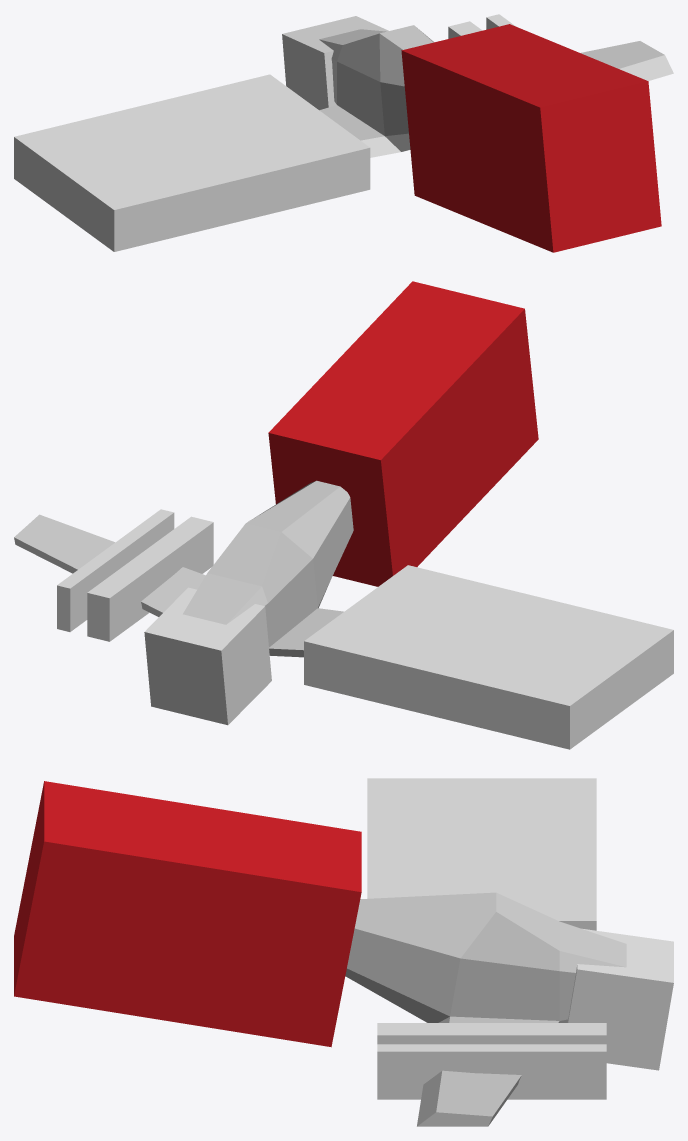
File: plane_trainer.gltf
The picture shows the model from 3 angles, top to bottom: view 1: azimuth 30°, elevation 25°; view 2: azimuth 150°, elevation 25°; view 3: azimuth 270°, elevation 25°; orthographic projection. The views are drawn at different scales.
Visible parts, largest first — view 1: Cube, Cube.004, TrainerPlane, Cube.001, Cube.002; view 2: Cube, Cube.004, TrainerPlane, Cube.001, Cube.002, Cube.003; view 3: Cube, TrainerPlane, Cube.004, Cube.003, Cube.001, Cube.002.
Part boxes in pixels (x1=…): Cube: x1=401, y1=24, x2=661, y2=252; Cube.004: x1=14, y1=74, x2=370, y2=251; TrainerPlane: x1=319, y1=25, x2=673, y2=157; Cube.001: x1=282, y1=16, x2=388, y2=110; Cube.002: x1=448, y1=21, x2=482, y2=38; Cube: x1=268, y1=281, x2=538, y2=586; Cube.004: x1=304, y1=565, x2=673, y2=749; TrainerPlane: x1=14, y1=480, x2=353, y2=657; Cube.001: x1=144, y1=587, x2=271, y2=725; Cube.002: x1=87, y1=516, x2=213, y2=641; Cube.003: x1=57, y1=509, x2=174, y2=631; Cube: x1=14, y1=781, x2=361, y2=1047; TrainerPlane: x1=345, y1=892, x2=626, y2=1126; Cube.004: x1=367, y1=778, x2=596, y2=930; Cube.003: x1=377, y1=1044, x2=606, y2=1099; Cube.001: x1=567, y1=928, x2=673, y2=1070; Cube.002: x1=377, y1=1023, x2=606, y2=1044.
Size of the model in its own units: 6.7 by 2.3 by 5.76.
